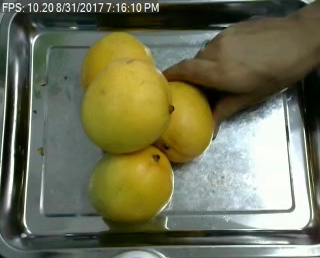Mango: (80, 62, 175, 153), (87, 145, 174, 220), (141, 80, 215, 161), (82, 30, 158, 89)
